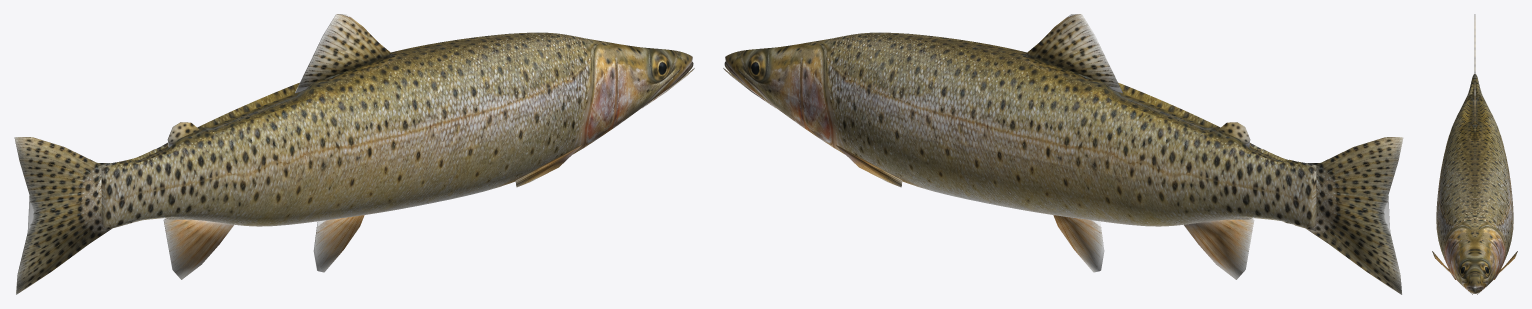
File: cutthroat_trout.glb
3 views of the same model, side by side, from view 1: azimuth 30°, elevation 25°; view 2: azimuth 150°, elevation 25°; view 3: azimuth 270°, elevation 25° (orthographic). The views are drawn at different scales.
Parts seen in each view (by area): view 1: cutthroat_trout_realistic.001; view 2: cutthroat_trout_realistic.001; view 3: cutthroat_trout_realistic.001.
Part boxes in pixels (<box>): cutthroat_trout_realistic.001: <box>14,14,694,294</box>; cutthroat_trout_realistic.001: <box>723,14,1403,294</box>; cutthroat_trout_realistic.001: <box>1432,14,1517,294</box>.
Bounding box in the file's own units: 1 × 0.3593 × 0.1679.
Materials: 3 (3 with a texture image).
